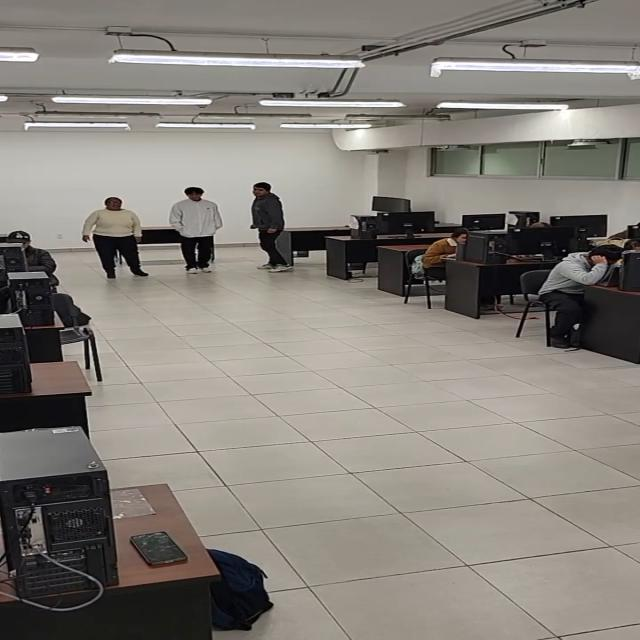Persona: (80, 194, 155, 283), (240, 179, 299, 276), (167, 184, 226, 278)
